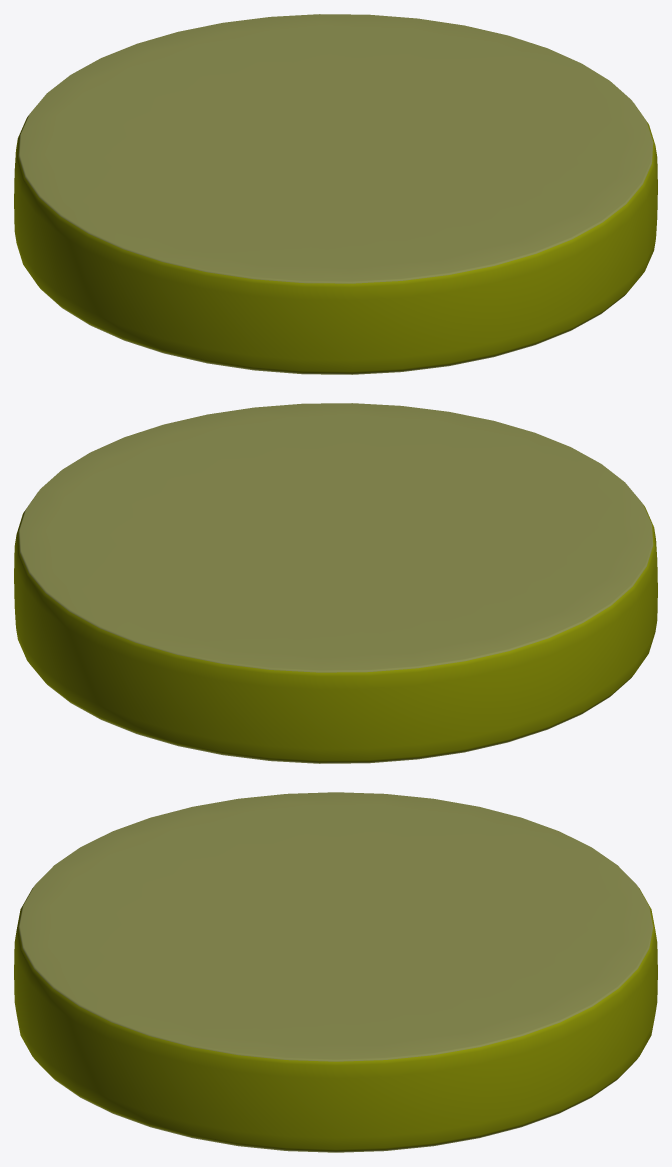
Rendered from Picle.fbx.
3 renders of one model, top to bottom at view 1: azimuth 30°, elevation 25°; view 2: azimuth 150°, elevation 25°; view 3: azimuth 270°, elevation 25°, orthographic.
Parts seen in each view (by area): view 1: pCylinder27; view 2: pCylinder27; view 3: pCylinder27.
Boxes of the visible parts, box(x1,y1,x2,y2) form: pCylinder27: box(14, 14, 657, 374); pCylinder27: box(14, 403, 657, 763); pCylinder27: box(14, 792, 657, 1152).
Size of the model in its own units: 0.9152 by 0.1507 by 0.9152.
